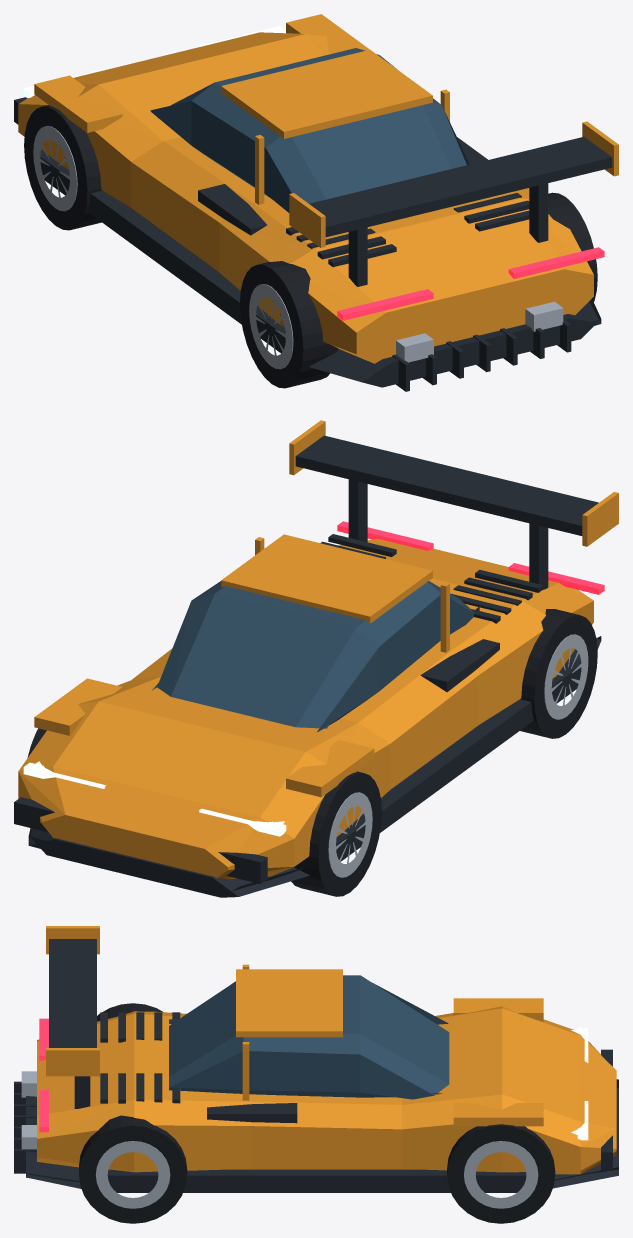
File: muscle_gold.glb
3 views of the same model, one above another, from view 1: azimuth 30°, elevation 25°; view 2: azimuth 150°, elevation 25°; view 3: azimuth 270°, elevation 25° (orthographic). The views are drawn at different scales.
Parts seen in each view (by area): view 1: Coachwork, Wheel_RL, Wheel_FL, Wheel_RR; view 2: Coachwork, Wheel_RL, Wheel_FL; view 3: Coachwork, Wheel_RR, Wheel_FR, Wheel_RL.
Part boxes in pixels (x1,y1,x2,y2): Coachwork: (14, 14, 618, 391); Wheel_RL: (240, 261, 338, 388); Wheel_FL: (24, 105, 102, 230); Wheel_RR: (548, 192, 597, 301); Coachwork: (14, 420, 618, 897); Wheel_RL: (520, 609, 597, 738); Wheel_FL: (291, 771, 381, 896); Coachwork: (14, 926, 618, 1192); Wheel_RR: (79, 1115, 187, 1223); Wheel_FR: (447, 1124, 555, 1223); Wheel_RL: (97, 1003, 163, 1021).
Size of the model in its own units: 2.44 by 1.6 by 5.03.
